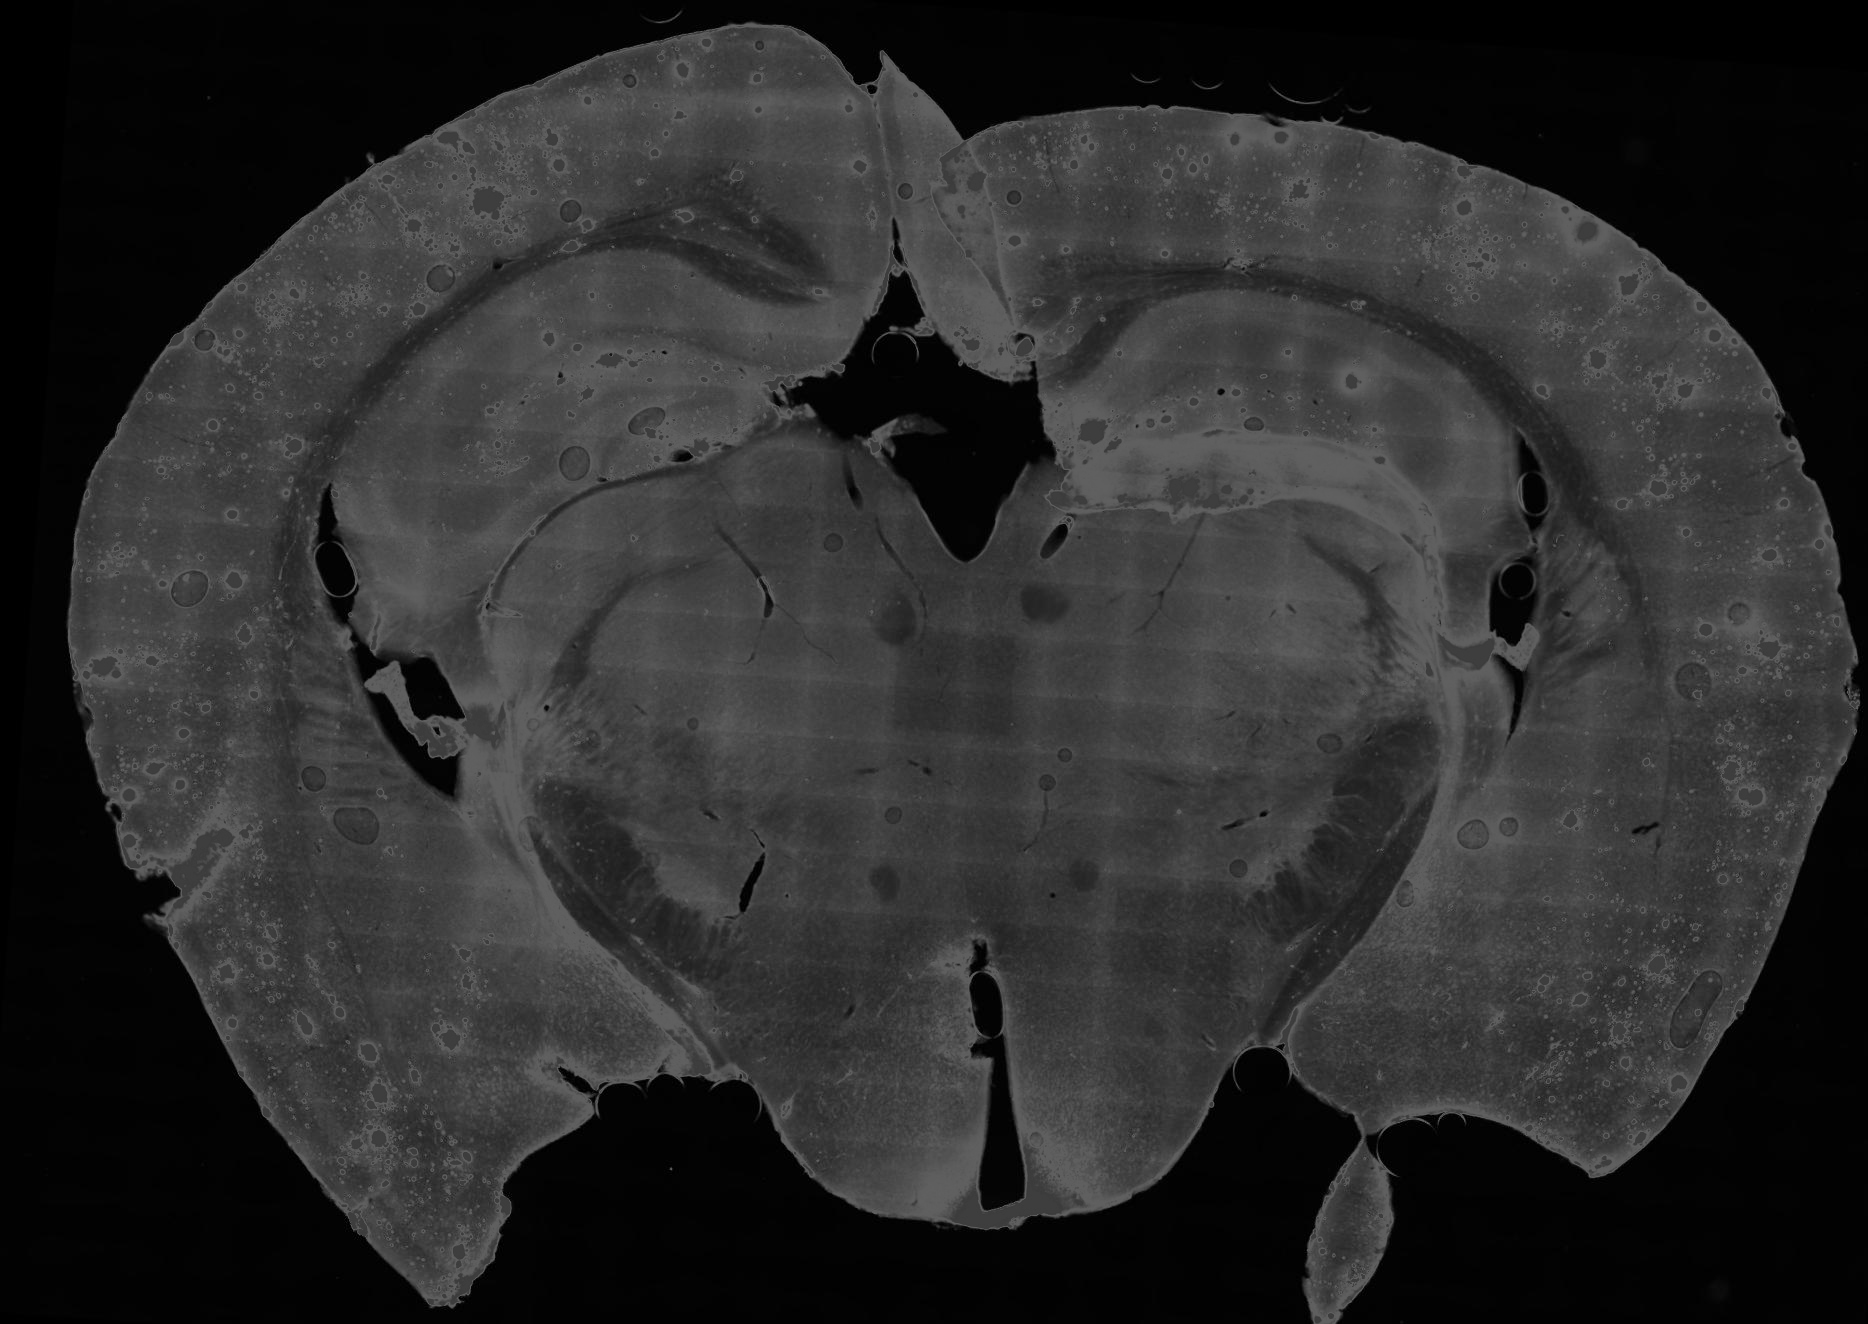Cerebral nuclei: (284, 615, 537, 973), (1447, 510, 1652, 883)
Hippocampal formation: (329, 249, 885, 618), (1037, 289, 1511, 556)
Hypothalamus: (970, 754, 1342, 1227), (620, 818, 1019, 1227)
Retrosplenial area: (749, 37, 895, 297)
Somatosensory area: (1145, 105, 1844, 638), (67, 80, 602, 724)
Thalamus: (481, 413, 973, 893), (966, 433, 1443, 896)
